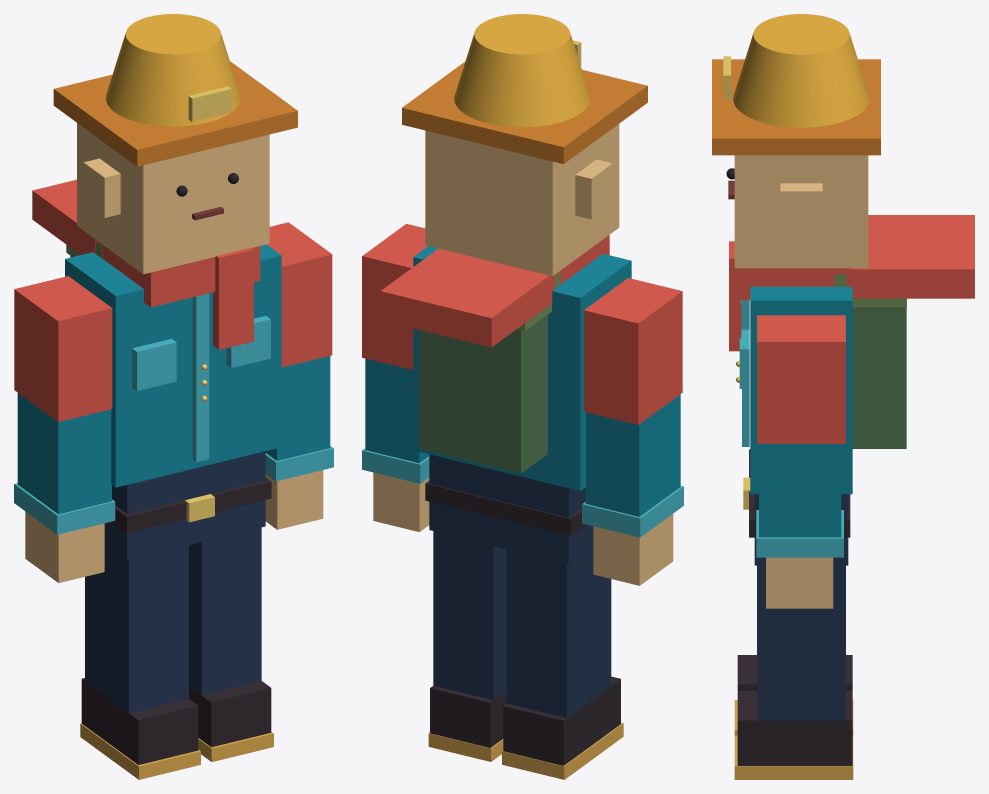
File: milo_rookie.glb
3 views of the same model, side by side, from view 1: azimuth 30°, elevation 25°; view 2: azimuth 150°, elevation 25°; view 3: azimuth 270°, elevation 25° (orthographic).
Parts seen in each view (by area): view 1: jacket_torso, head, left_trouser_leg, left_upper_sleeve, right_trouser_leg, helmet_crown, helmet_brim, left_forearm, belted_waist, right_upper_sleeve, left_boot, right_forearm (+17 smaller); view 2: head, backpack_body, left_trouser_leg, left_upper_sleeve, helmet_crown, backpack_bedroll, right_trouser_leg, jacket_torso, helmet_brim, belted_waist, left_forearm, left_boot (+12 smaller); view 3: head, helmet_crown, right_upper_sleeve, right_trouser_leg, backpack_bedroll, helmet_brim, backpack_body, right_forearm, right_boot, jacket_torso, right_hand, scarf_collar (+10 smaller).
Part boxes in pixels (x1,y1,x2,y2): jacket_torso: (65, 244, 281, 487); head: (77, 123, 269, 274); left_trouser_leg: (85, 544, 188, 712); left_upper_sleeve: (14, 276, 112, 421); right_trouser_leg: (189, 527, 261, 695); helmet_crown: (105, 14, 240, 126); helmet_brim: (53, 61, 297, 166); left_forearm: (17, 393, 111, 514); belted_waist: (104, 451, 265, 559); right_upper_sleeve: (267, 222, 332, 367); left_boot: (81, 678, 198, 764); right_forearm: (265, 356, 330, 460); head: (425, 124, 619, 276); backpack_body: (418, 315, 547, 473); left_trouser_leg: (506, 546, 611, 717); left_upper_sleeve: (584, 278, 682, 424); helmet_crown: (454, 14, 590, 127); backpack_bedroll: (380, 248, 555, 347); right_trouser_leg: (433, 531, 506, 700); jacket_torso: (413, 246, 631, 490); helmet_brim: (402, 62, 647, 164); belted_waist: (429, 454, 593, 563); left_forearm: (585, 394, 680, 516); left_boot: (503, 676, 620, 765); head: (734, 155, 868, 268); helmet_crown: (733, 14, 869, 127); right_upper_sleeve: (757, 315, 845, 443); right_trouser_leg: (757, 565, 845, 720); backpack_bedroll: (846, 215, 974, 298); helmet_brim: (712, 59, 880, 155); backpack_body: (852, 307, 906, 448); right_forearm: (759, 444, 841, 537); right_boot: (737, 691, 852, 765); jacket_torso: (750, 286, 852, 494); right_hand: (766, 557, 833, 608); scarf_collar: (736, 268, 851, 300).
Size of the model in its own units: 0.516 by 1.26 by 0.4205.
